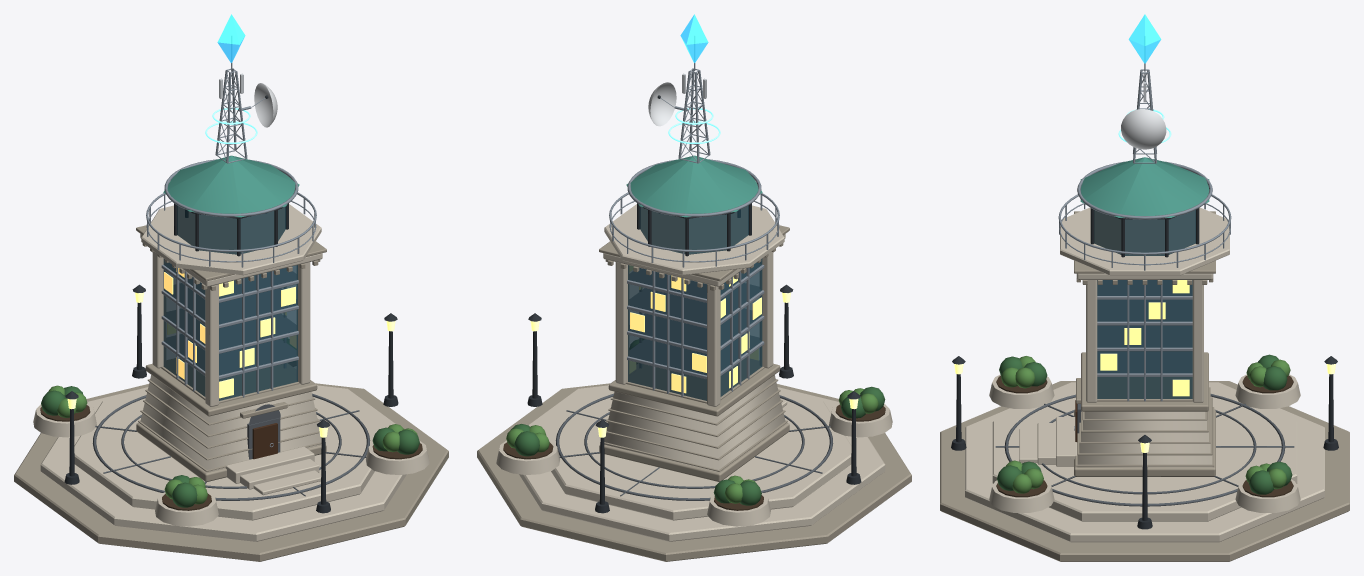
Rendered from unit01.glb.
3 renders of one model, left to right at view 1: azimuth 30°, elevation 25°; view 2: azimuth 150°, elevation 25°; view 3: azimuth 270°, elevation 25°, orthographic.
Parts seen in each view (by area): view 1: rw3_unit01_signal_tower_part1, rw3_unit01_signal_tower_part0, rw3_unit01_signal_tower_part10, rw3_unit01_signal_tower_part11, rw3_unit01_signal_tower_part13, rw3_unit01_signal_tower_part6, rw3_unit01_signal_tower_part2, rw3_unit01_signal_tower_part5, rw3_unit01_signal_tower_part12, rw3_unit01_signal_tower_part4, rw3_unit01_signal_tower_part3, rw3_unit01_signal_tower_part9 (+2 smaller); view 2: rw3_unit01_signal_tower_part1, rw3_unit01_signal_tower_part0, rw3_unit01_signal_tower_part10, rw3_unit01_signal_tower_part11, rw3_unit01_signal_tower_part13, rw3_unit01_signal_tower_part6, rw3_unit01_signal_tower_part2, rw3_unit01_signal_tower_part5, rw3_unit01_signal_tower_part12, rw3_unit01_signal_tower_part4, rw3_unit01_signal_tower_part3, rw3_unit01_signal_tower_part14 (+1 smaller); view 3: rw3_unit01_signal_tower_part1, rw3_unit01_signal_tower_part0, rw3_unit01_signal_tower_part11, rw3_unit01_signal_tower_part10, rw3_unit01_signal_tower_part13, rw3_unit01_signal_tower_part2, rw3_unit01_signal_tower_part5, rw3_unit01_signal_tower_part6, rw3_unit01_signal_tower_part4, rw3_unit01_signal_tower_part14, rw3_unit01_signal_tower_part12, rw3_unit01_signal_tower_part3 (+1 smaller).
Part boxes in pixels (bbox=[...]): rw3_unit01_signal_tower_part1: bbox=[33, 204, 429, 541]; rw3_unit01_signal_tower_part0: bbox=[14, 225, 448, 561]; rw3_unit01_signal_tower_part10: bbox=[146, 63, 316, 447]; rw3_unit01_signal_tower_part11: bbox=[163, 205, 297, 400]; rw3_unit01_signal_tower_part13: bbox=[163, 155, 299, 217]; rw3_unit01_signal_tower_part6: bbox=[64, 95, 398, 513]; rw3_unit01_signal_tower_part2: bbox=[92, 393, 370, 500]; rw3_unit01_signal_tower_part5: bbox=[41, 339, 419, 507]; rw3_unit01_signal_tower_part12: bbox=[164, 268, 295, 398]; rw3_unit01_signal_tower_part4: bbox=[48, 338, 417, 504]; rw3_unit01_signal_tower_part3: bbox=[40, 362, 422, 510]; rw3_unit01_signal_tower_part9: bbox=[252, 423, 277, 459]; rw3_unit01_signal_tower_part1: bbox=[496, 204, 892, 541]; rw3_unit01_signal_tower_part0: bbox=[477, 225, 911, 561]; rw3_unit01_signal_tower_part10: bbox=[609, 63, 779, 397]; rw3_unit01_signal_tower_part11: bbox=[628, 205, 762, 400]; rw3_unit01_signal_tower_part13: bbox=[626, 155, 762, 217]; rw3_unit01_signal_tower_part6: bbox=[527, 95, 861, 513]; rw3_unit01_signal_tower_part2: bbox=[555, 393, 833, 500]; rw3_unit01_signal_tower_part5: bbox=[510, 339, 885, 505]; rw3_unit01_signal_tower_part12: bbox=[630, 266, 761, 393]; rw3_unit01_signal_tower_part4: bbox=[506, 340, 878, 503]; rw3_unit01_signal_tower_part3: bbox=[503, 363, 885, 510]; rw3_unit01_signal_tower_part14: bbox=[648, 82, 676, 126]; rw3_unit01_signal_tower_part1: bbox=[965, 207, 1324, 542]; rw3_unit01_signal_tower_part0: bbox=[940, 211, 1349, 561]; rw3_unit01_signal_tower_part11: bbox=[1094, 210, 1195, 398]; rw3_unit01_signal_tower_part10: bbox=[1058, 63, 1231, 430]; rw3_unit01_signal_tower_part13: bbox=[1080, 157, 1209, 217]; rw3_unit01_signal_tower_part2: bbox=[995, 394, 1294, 506]; rw3_unit01_signal_tower_part5: bbox=[997, 354, 1292, 494]; rw3_unit01_signal_tower_part6: bbox=[951, 204, 1338, 529]; rw3_unit01_signal_tower_part4: bbox=[1001, 356, 1290, 493]; rw3_unit01_signal_tower_part14: bbox=[1121, 109, 1166, 149]; rw3_unit01_signal_tower_part12: bbox=[1100, 280, 1189, 396]; rw3_unit01_signal_tower_part3: bbox=[996, 375, 1293, 497].
Bounding box in the file's own units: 5.77 × 7.17 × 5.77.
